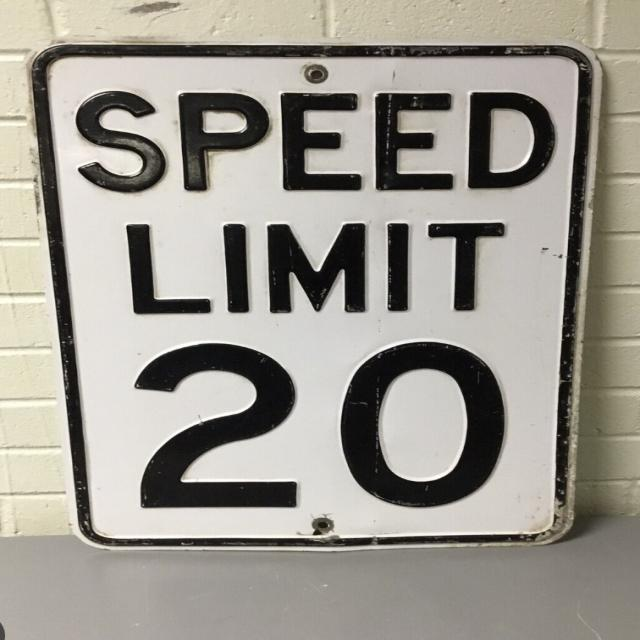speedLimit20: (39, 47, 567, 547)
